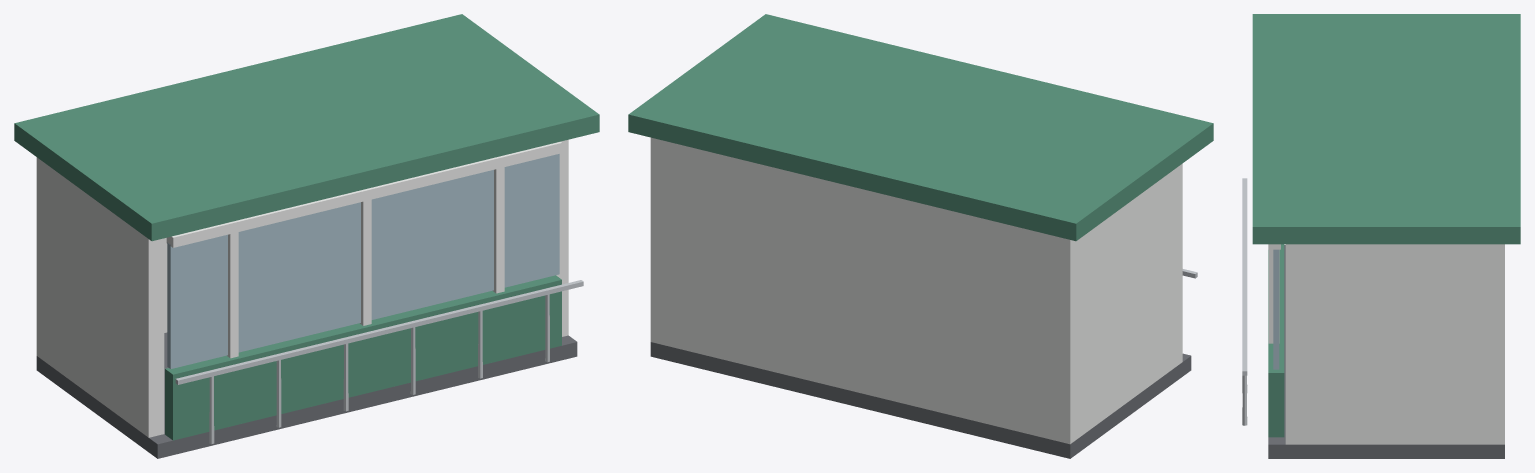
File: racecourse-and-parade-ring-private-box-front-a52c914b__38626.glb
3 views of the same model, side by side, from view 1: azimuth 30°, elevation 25°; view 2: azimuth 150°, elevation 25°; view 3: azimuth 270°, elevation 25° (orthographic). The views are drawn at different scales.
Parts seen in each view (by area): view 1: private-box-front; view 2: private-box-front; view 3: private-box-front.
Part boxes in pixels (x1,y1,x2,y2): private-box-front: (14,14,599,458); private-box-front: (628,14,1213,458); private-box-front: (1242,14,1520,458).
Size of the model in its own units: 6.4 by 3.34 by 3.53.
